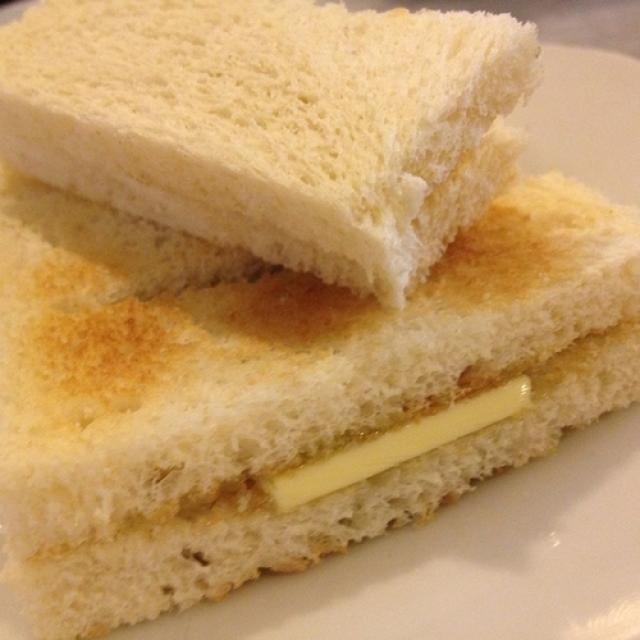面包点心: (12, 18, 606, 621)
